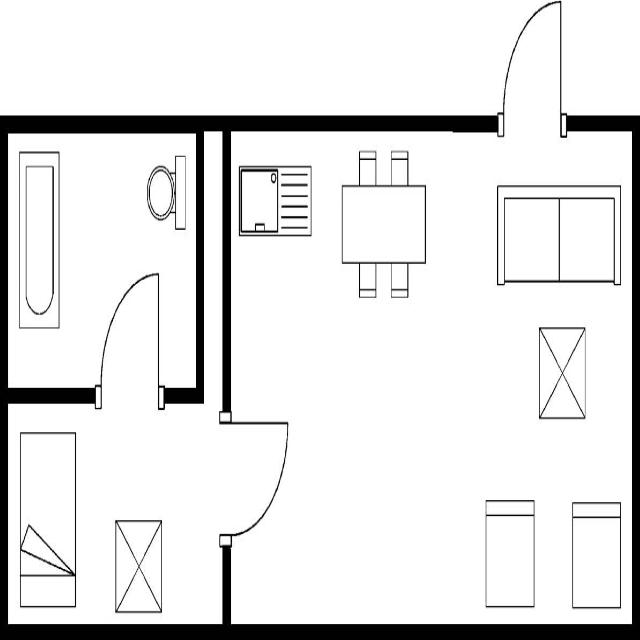bed: (15, 424, 78, 614)
coffee_table: (110, 513, 168, 619), (532, 317, 589, 424)
dining_table: (336, 141, 430, 307)
large_sink: (143, 147, 190, 240)
large_sofa: (492, 176, 624, 290)
sink: (236, 158, 316, 240)
small_sofa: (482, 488, 538, 612), (567, 494, 623, 616)
tub: (16, 143, 62, 333)
